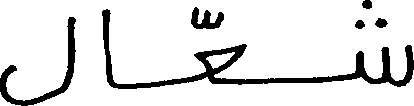ا: (100, 6, 115, 88)
ش: (354, 0, 412, 88)
ع: (191, 4, 247, 85)
ل: (0, 15, 74, 105)
